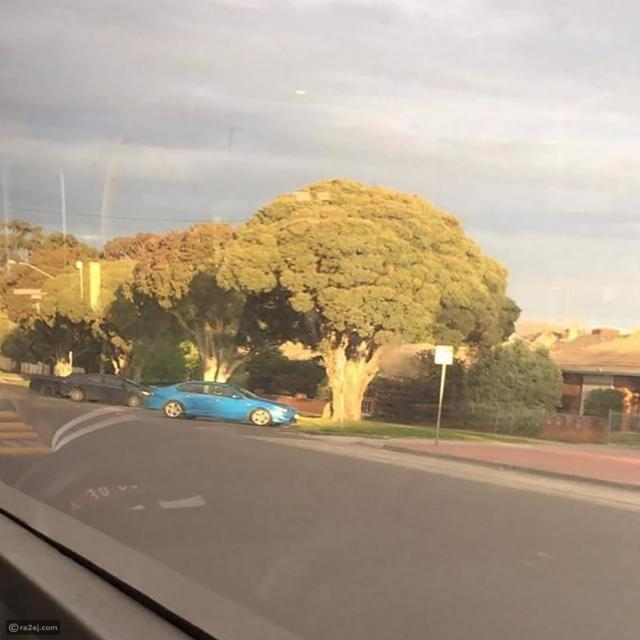car: (157, 372, 300, 435), (53, 364, 162, 417)
tree: (267, 186, 407, 440), (162, 217, 260, 446), (75, 248, 160, 427), (466, 333, 556, 480), (27, 245, 101, 412)
